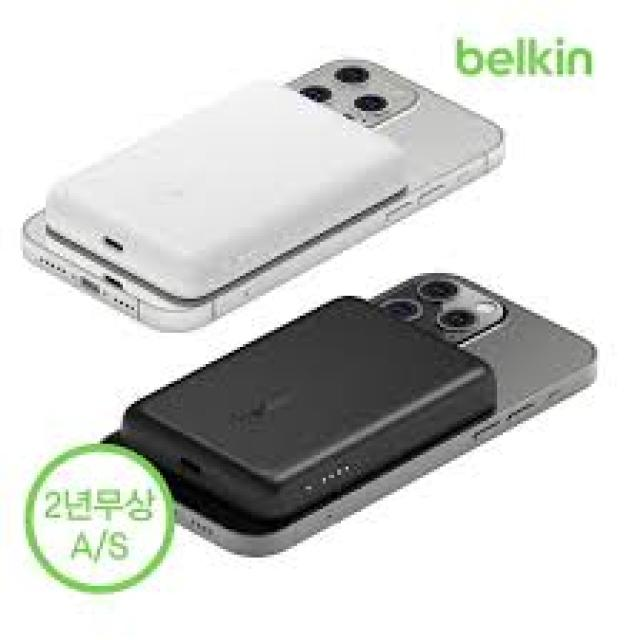portable-charger: (118, 290, 496, 522), (51, 78, 411, 301)
